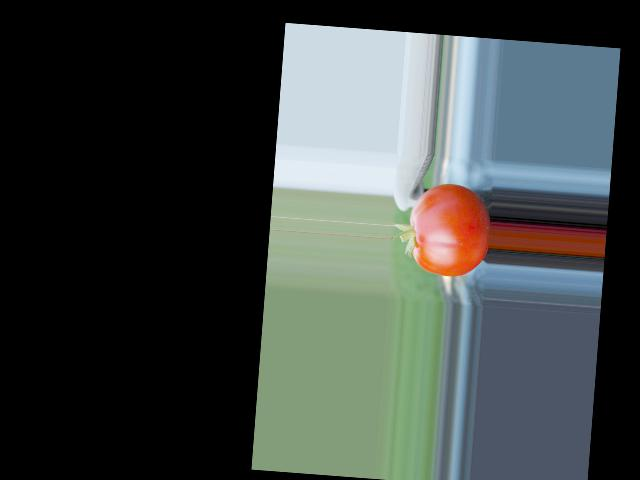tomato: (406, 181, 493, 279)
